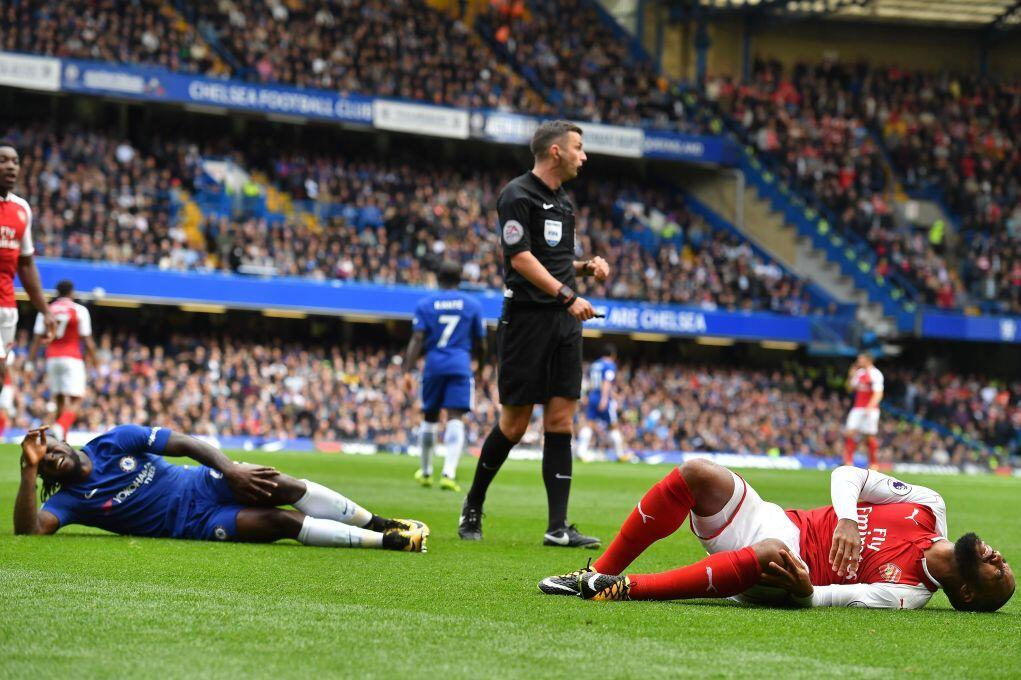10+: (1, 1, 1021, 612)
down: (525, 449, 1021, 615), (14, 410, 445, 565)
